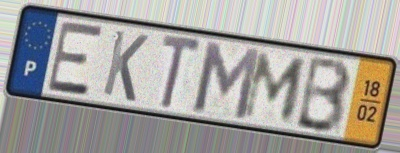B: (292, 54, 354, 137)
E: (45, 21, 105, 99)
K: (99, 27, 151, 105)
M: (191, 38, 263, 123), (239, 49, 311, 125)
T: (158, 30, 205, 113)
